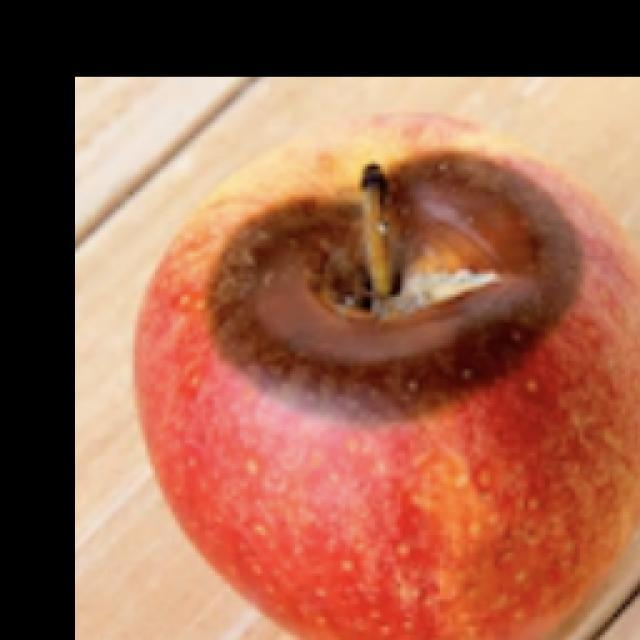Rotten: (132, 94, 640, 640)
